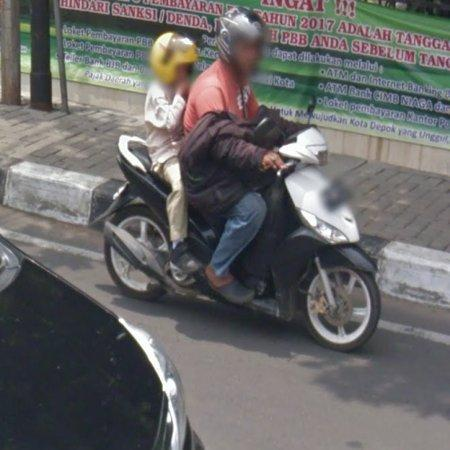motorcycles: (102, 127, 381, 351)
